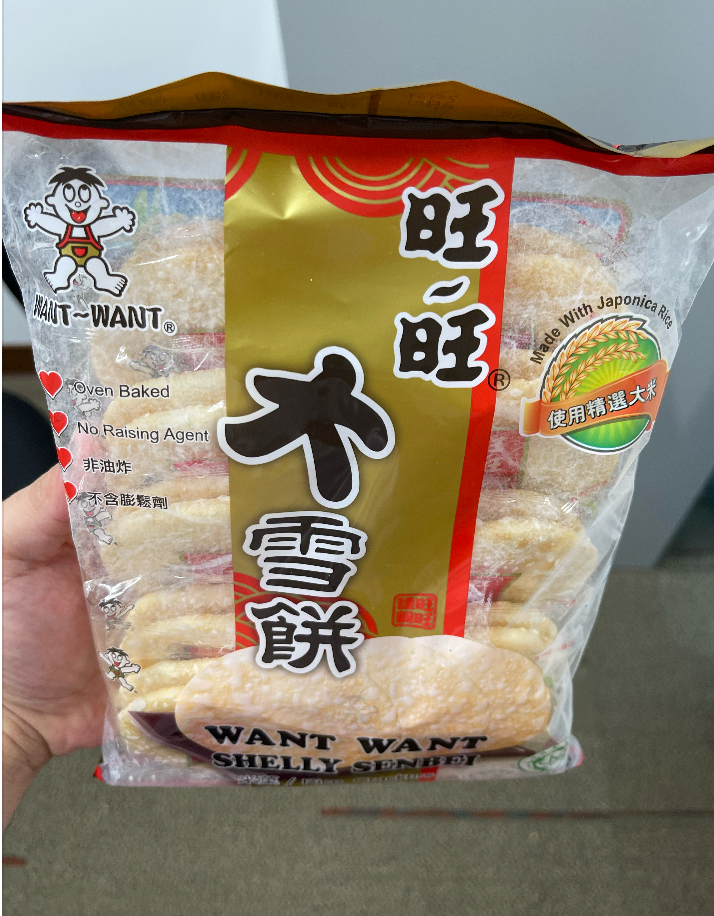crackers_100g-199g: (65, 141, 585, 764)
